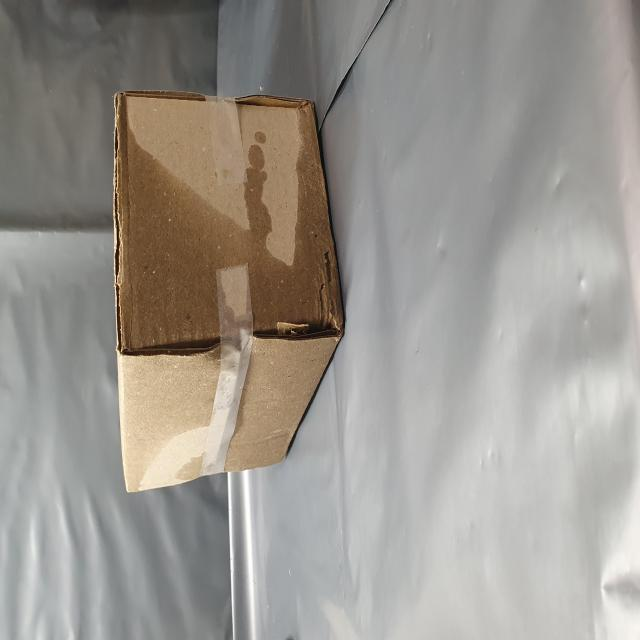wet: (85, 205, 299, 596)
